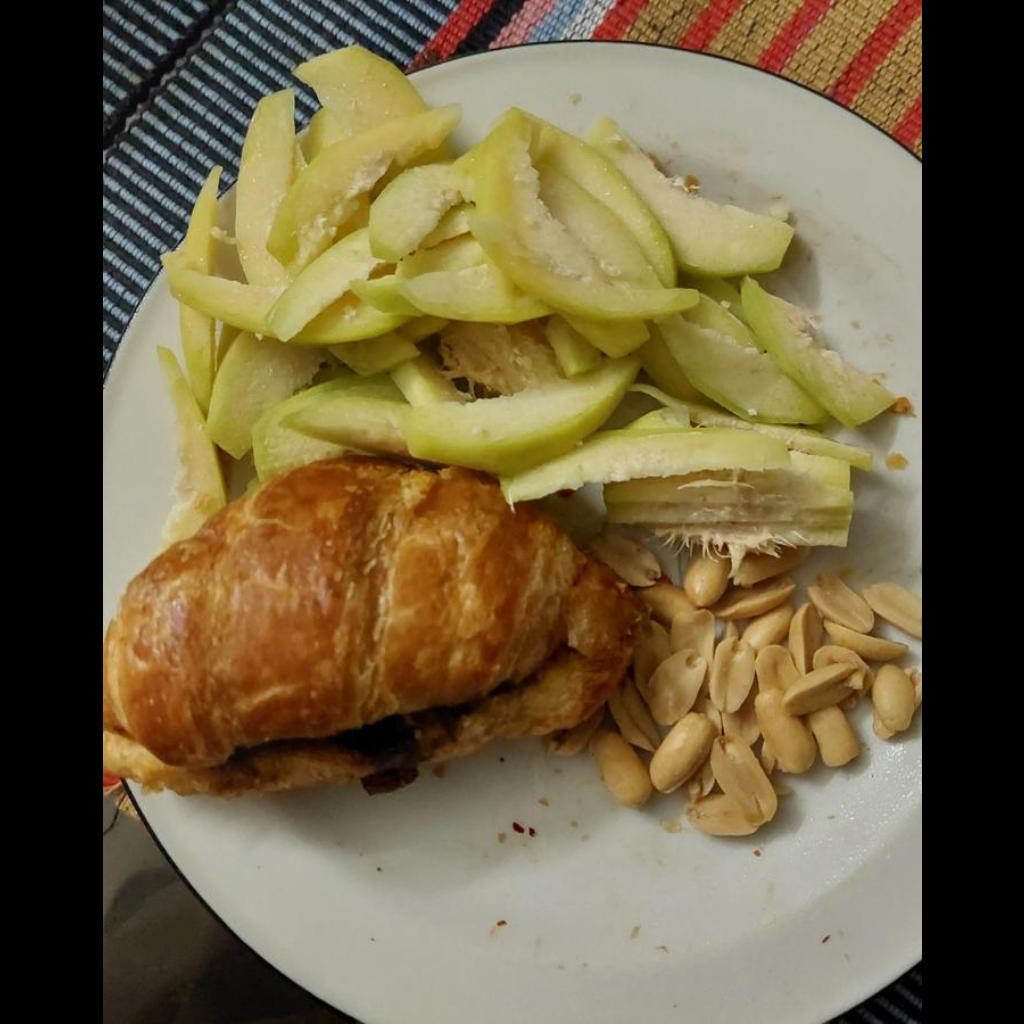badam: (588, 537, 920, 838)
chomchom: (102, 455, 646, 796)
guava: (157, 47, 907, 552)
